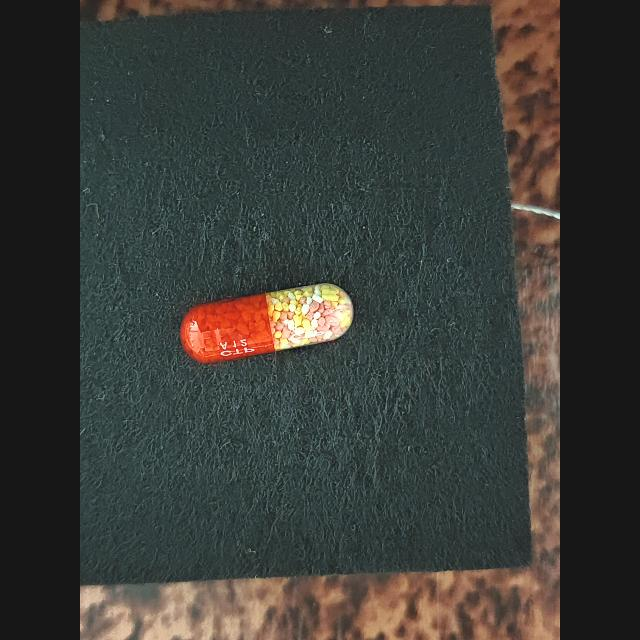Intact Capsule: (180, 283, 354, 364)
